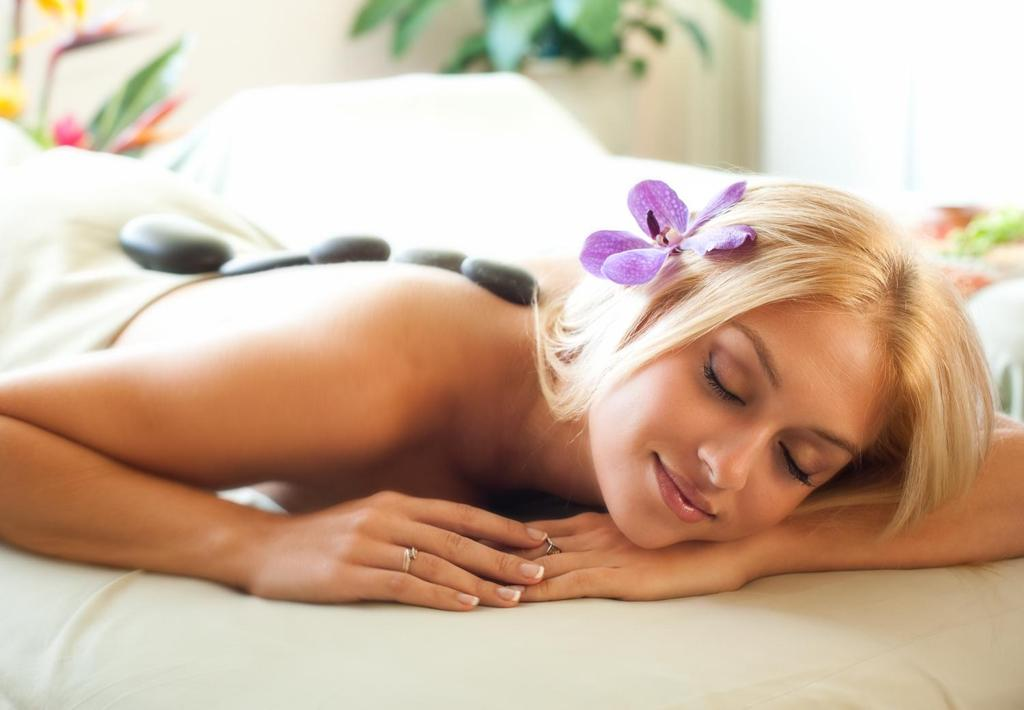face: (604, 306, 882, 550)
